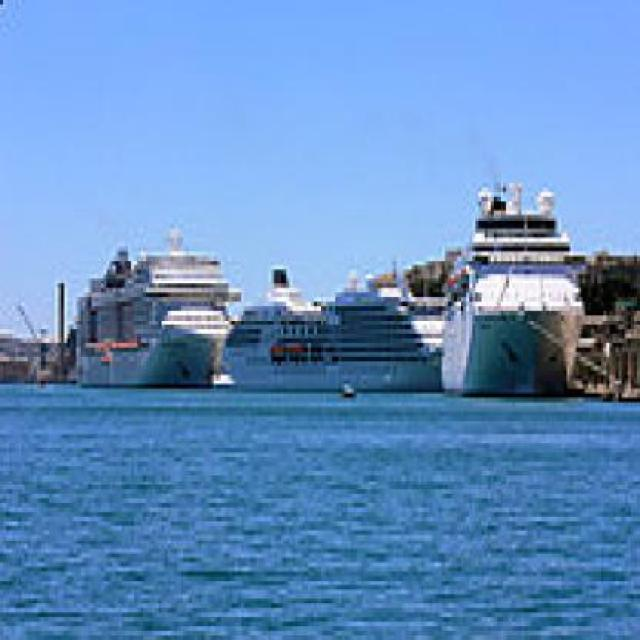cruise: (437, 174, 602, 413), (68, 220, 251, 394)
